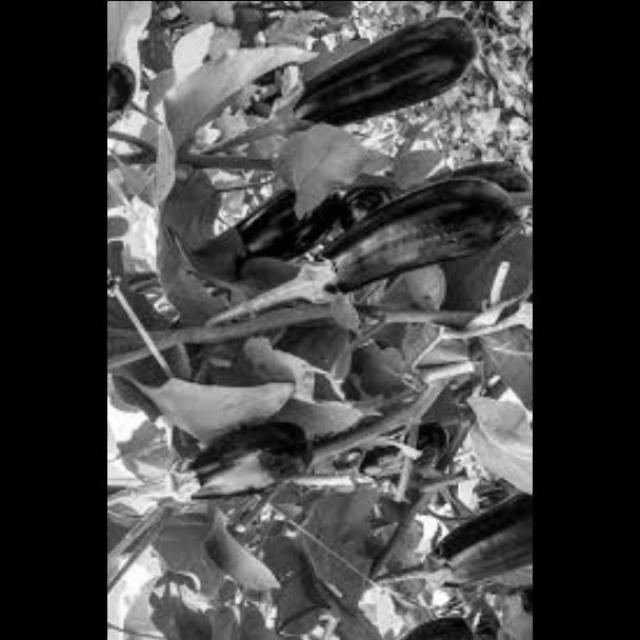eggplant: (286, 171, 518, 301), (256, 14, 498, 138), (150, 417, 343, 549), (181, 174, 352, 304), (384, 483, 532, 597)
